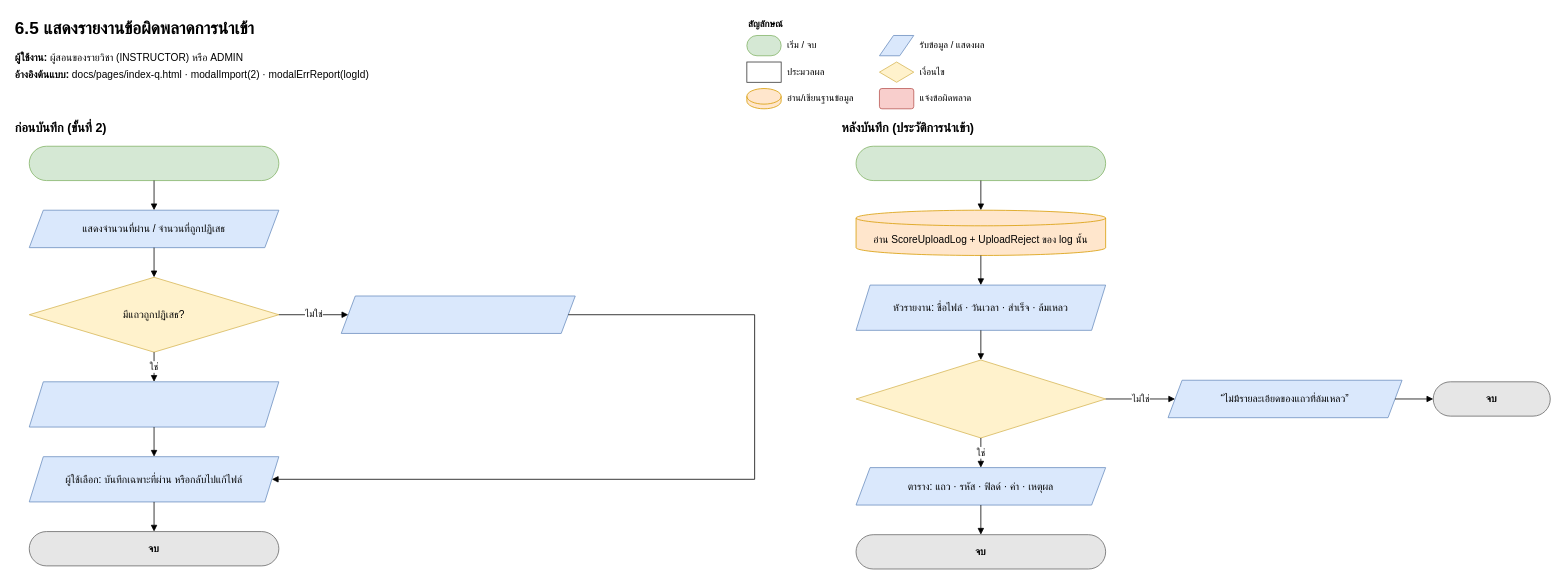
Some shapes in this 1564 by 583 pixel diagram are drawn without their labels. The box of each missing label's shape, as (x1, y1, x2, y2) in pixels:
validateWorkbook() คืนผล: (28, 145, 279, 181)
กด “ดูรายงาน” ที่ประวัติการนำเข้า: (855, 145, 1106, 181)
ตาราง: แถว · รหัส · ฟิลด์ · ค่า · เหตุผล (เป็นคำสั่งให้แก้): (28, 381, 279, 427)
มีรายละเอียดแถวที่ล้มเหลว?: (855, 359, 1106, 438)
แสดง “ข้อมูลผ่านทั้งหมด”: (340, 295, 575, 333)
